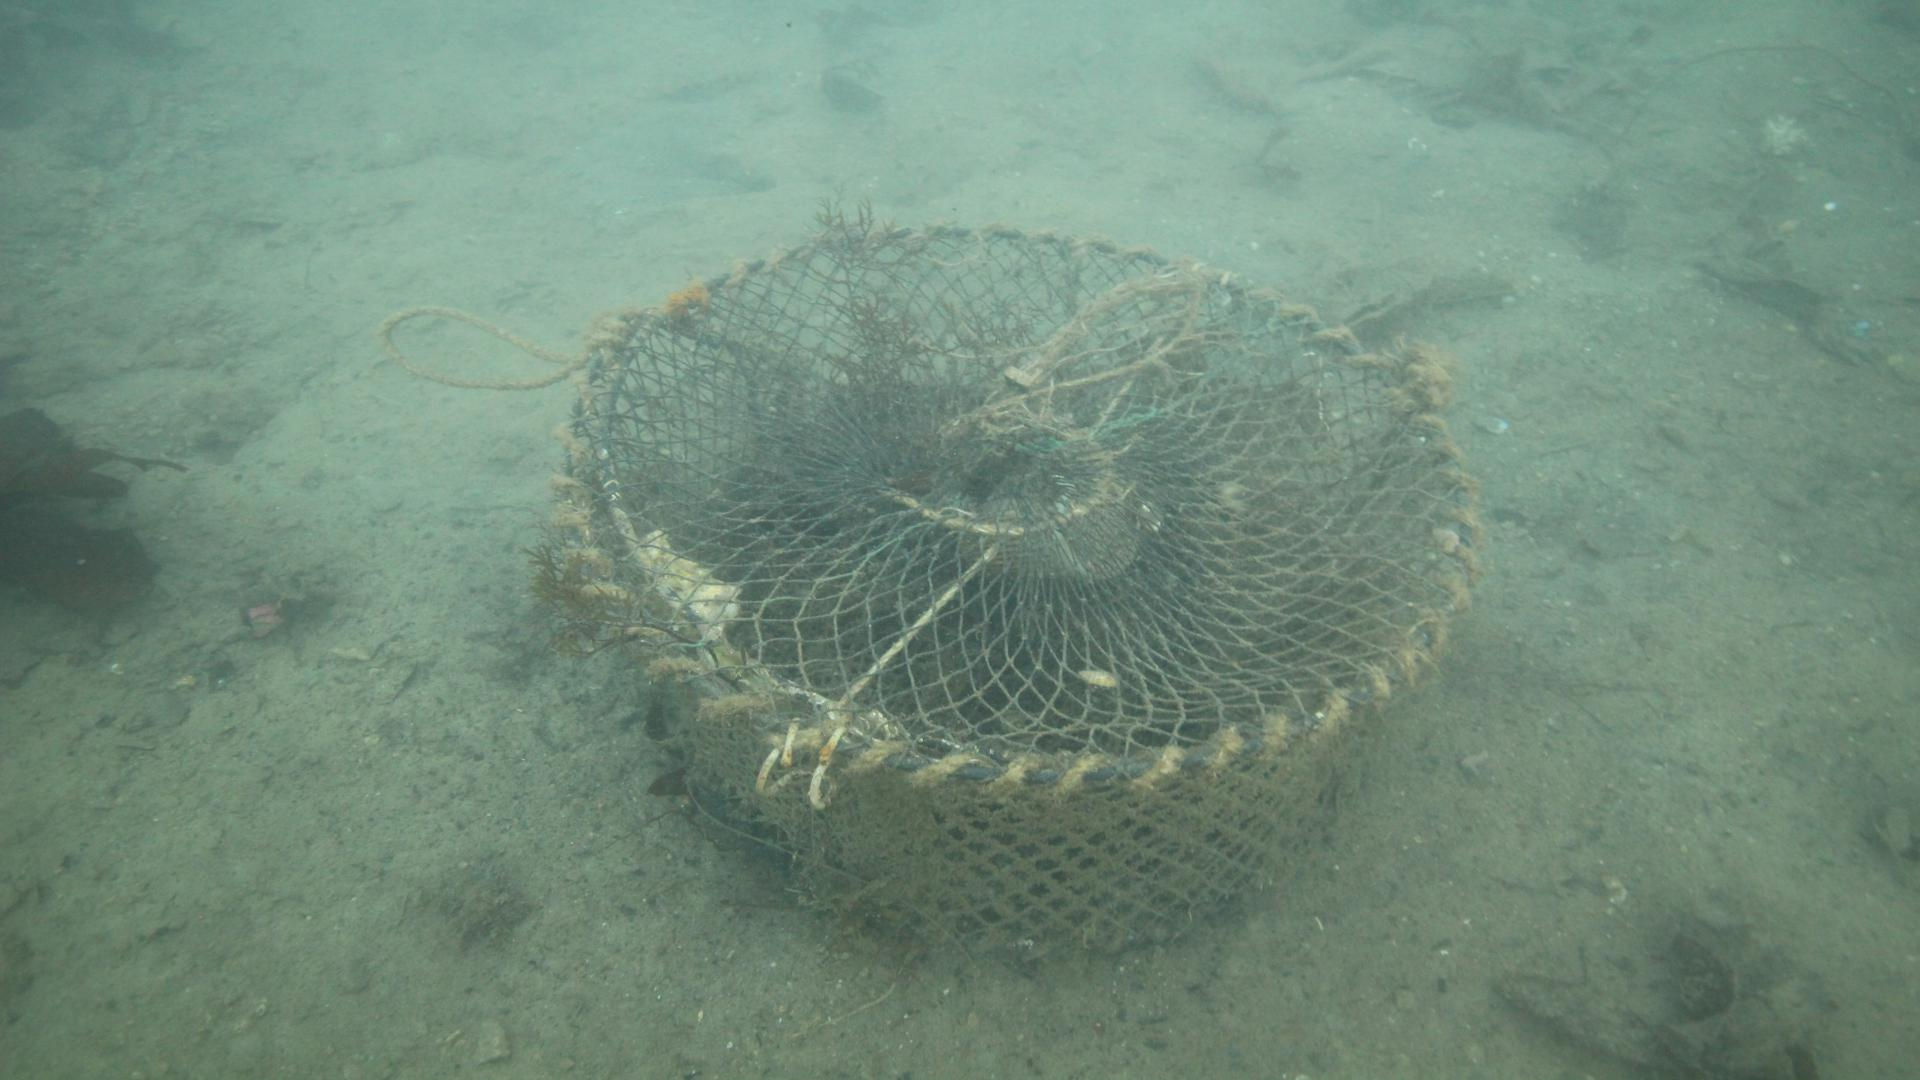circular fish trap: (545, 218, 1480, 963)
rope: (377, 301, 592, 388)
